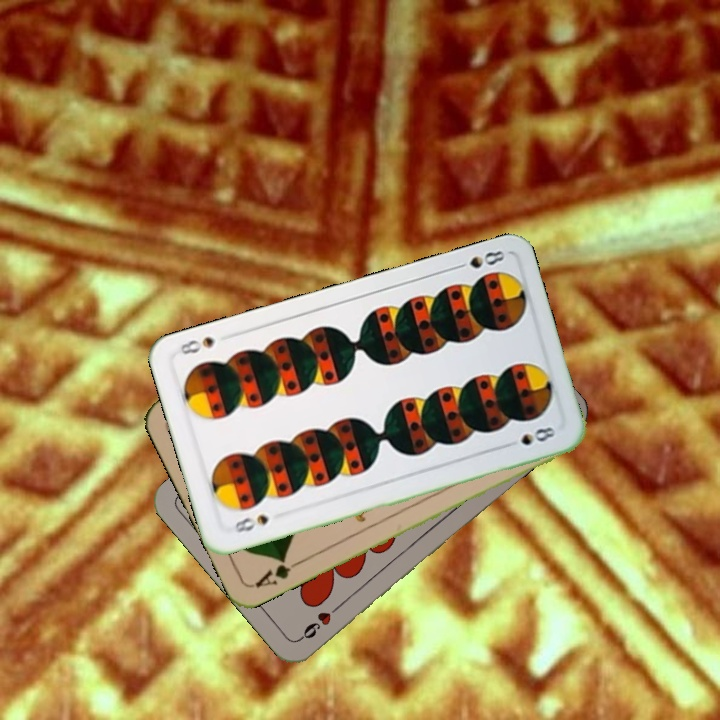GA: (250, 553, 305, 590)
H9: (295, 599, 344, 643)
S8: (449, 246, 508, 272), (230, 510, 271, 536)
